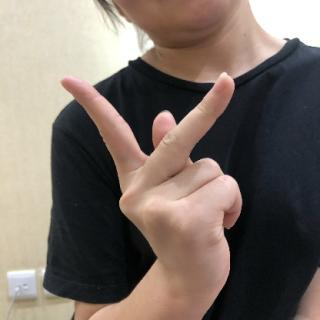DHAA: (52, 62, 253, 297)
